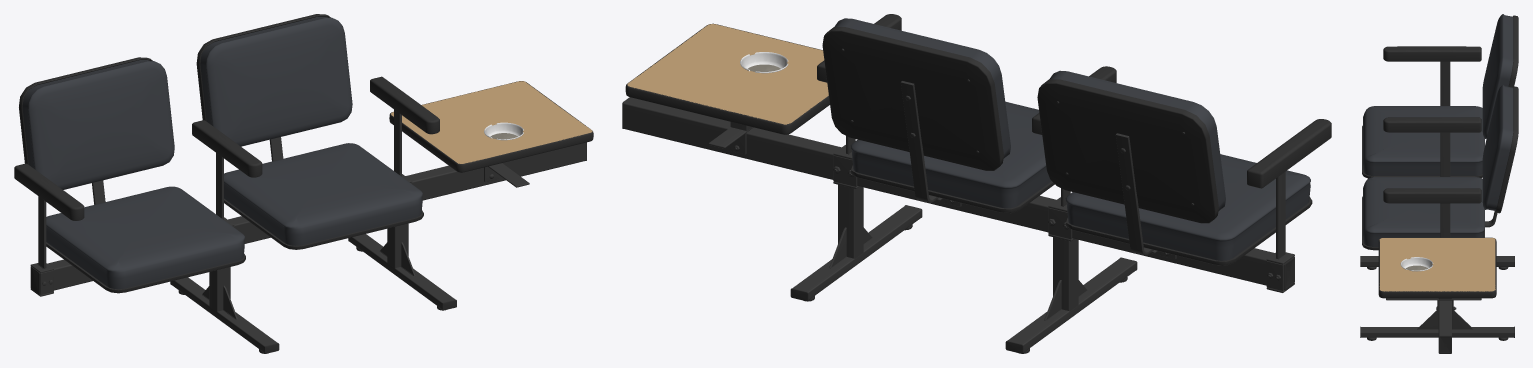
Rendered from Kit_TandemBeam2Table_Charcoal.fbx.
3 renders of one model, left to right at view 1: azimuth 30°, elevation 25°; view 2: azimuth 150°, elevation 25°; view 3: azimuth 270°, elevation 25°, orthographic. The views are drawn at different scales.
Parts seen in each view (by area): view 1: Kit_TandemBeam2Table_LOD0; view 2: Kit_TandemBeam2Table_LOD0; view 3: Kit_TandemBeam2Table_LOD0.
Boxes of the visible parts, bbox=[...] form: Kit_TandemBeam2Table_LOD0: bbox=[14, 14, 593, 353]; Kit_TandemBeam2Table_LOD0: bbox=[622, 14, 1331, 353]; Kit_TandemBeam2Table_LOD0: bbox=[1360, 14, 1518, 353].
Size of what is drawn, in the model's own units: 2 by 0.84 by 0.6144.
